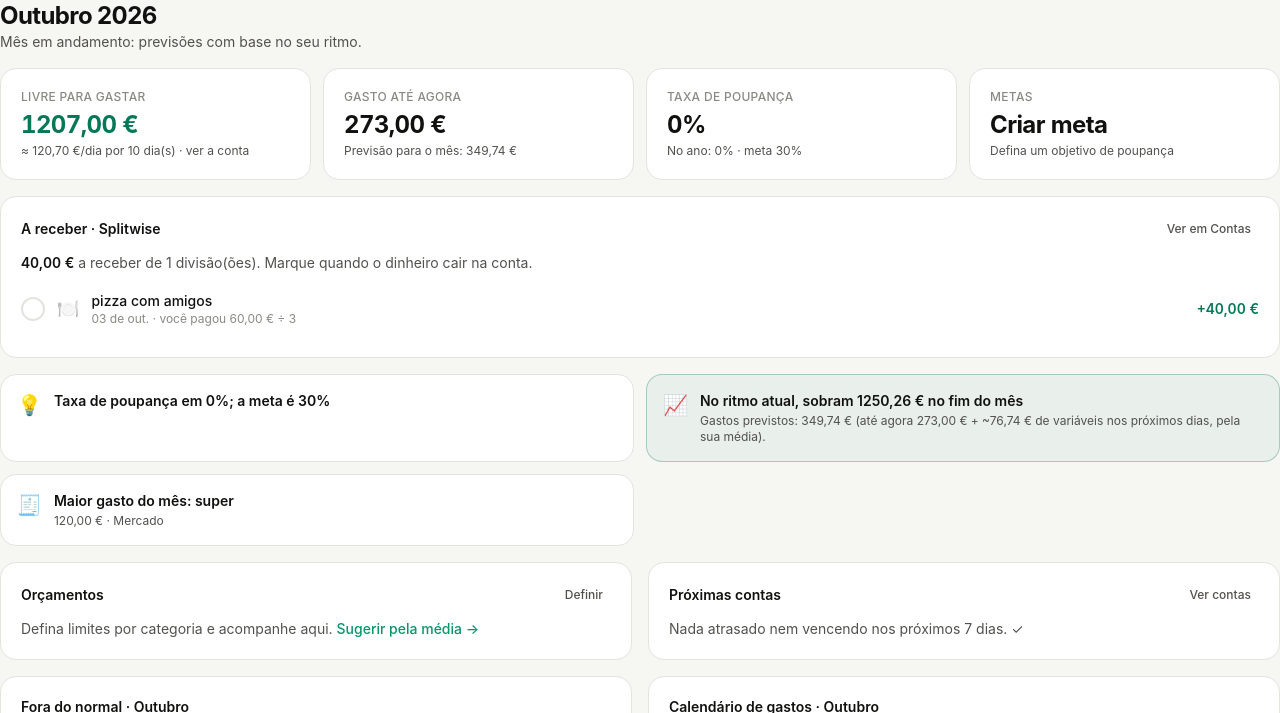
Test case: A receber · Splitwise › Início lists what others owe and keeps it out of "Livre para gastar" until it is received
Check: the text "pizza com amigos" is shown, box [92,292,212,309]
Check: the text "Livre para gastar" reads "Livre para gastar 1207,00 € ≈ 120,70 €/dia por 10 dia(s) · ver a conta", box [21,110,138,139]
Click the button "Livre para gastar" at (156, 124), box [0,68,311,180]
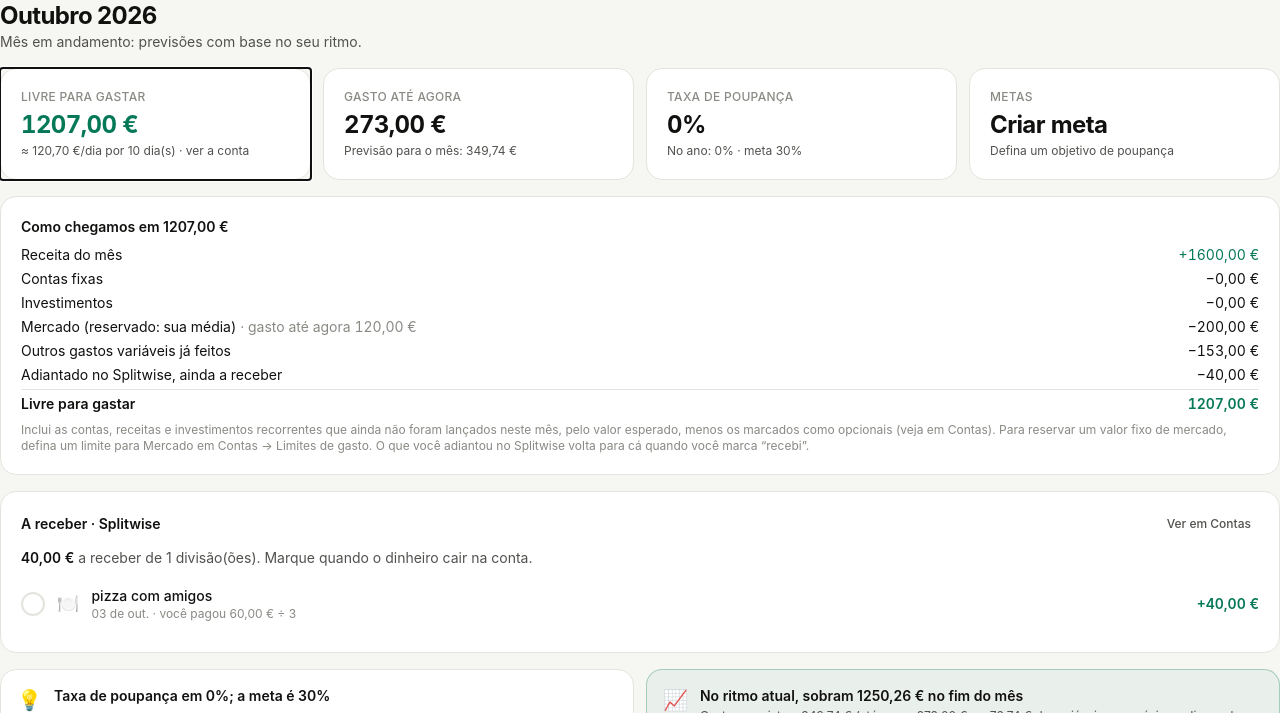
Click the checkbox named "pizza com amigos: recebi" at (33, 604), box [21,592,45,616]
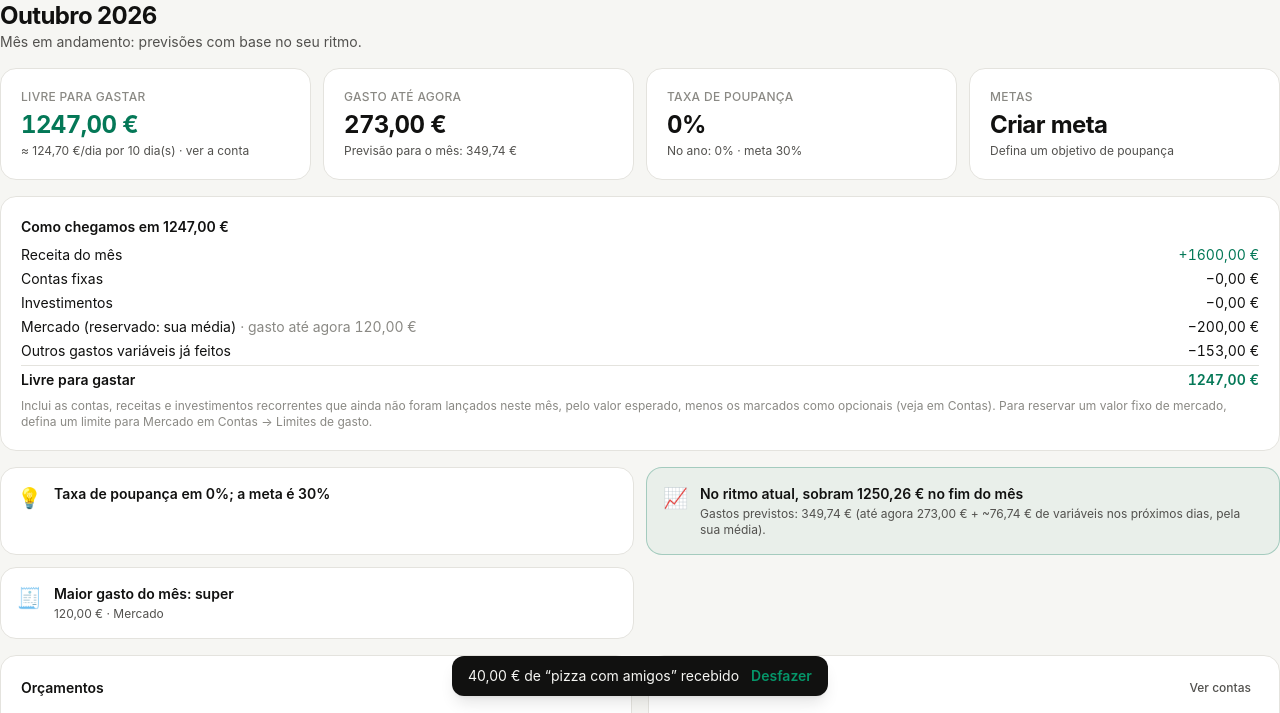
Check: the text "Livre para gastar" reads "Livre para gastar 1247,00 € ≈ 124,70 €/dia por 10 dia(s) · ver a conta", box [21,110,138,139]
Check: the heading "A receber · Splitwise" is gone
Click the button "Desfazer" at (782, 676), box [751,666,812,686]
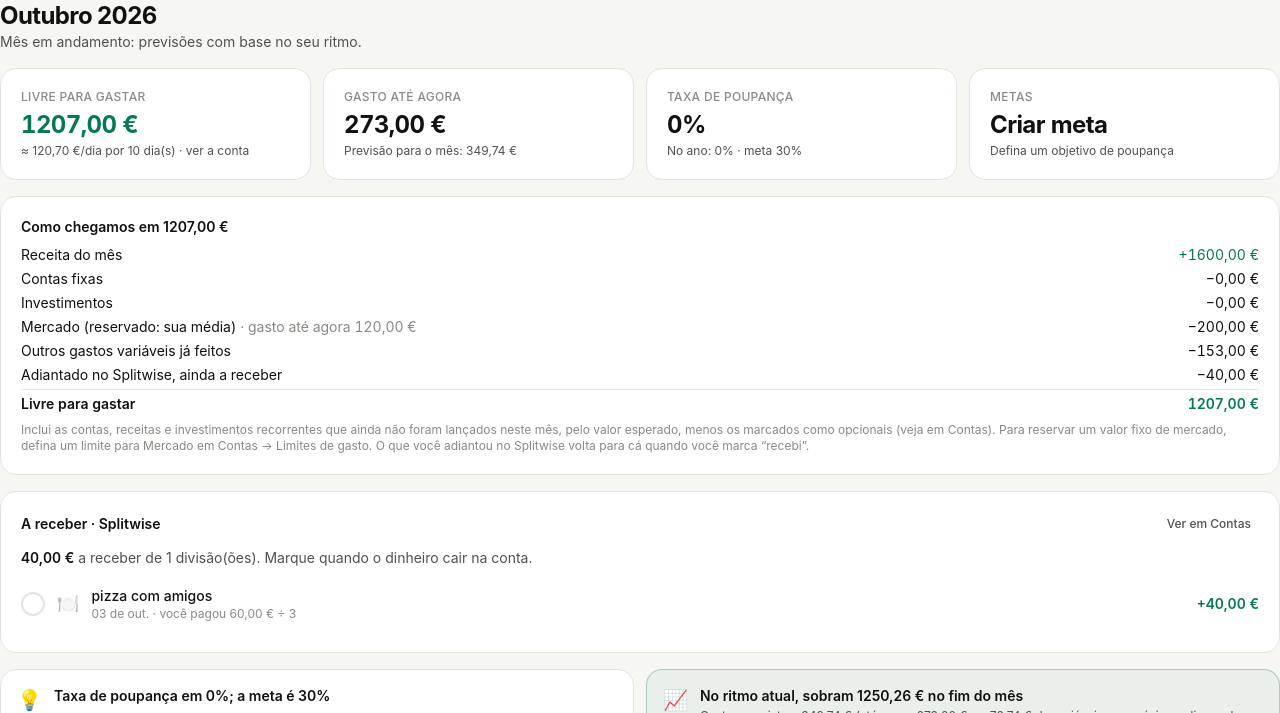
Check: the element "A receber · Splitwise" is shown, box [0,491,1279,653]
